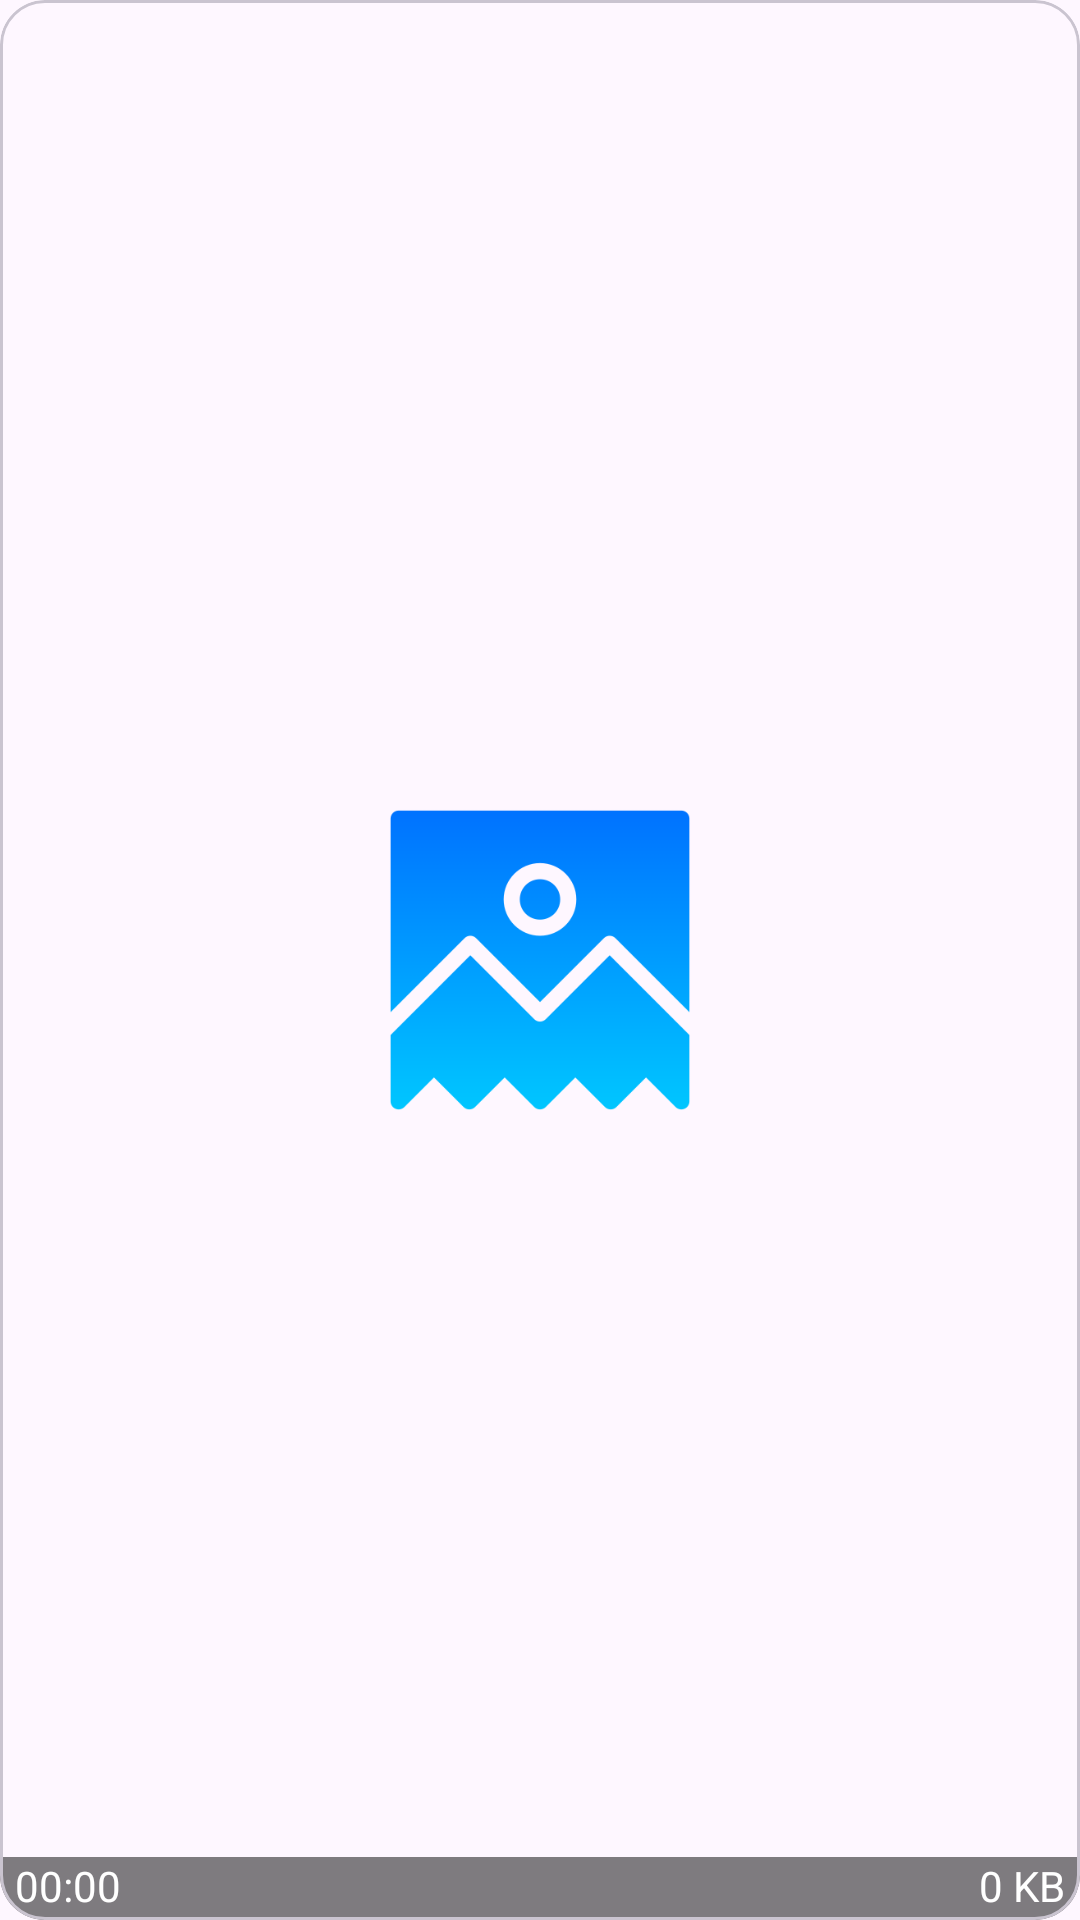

Where to tap for icons on this 1080 × 1920 app screen, as point (x, y):
thumbnail: point (540, 960)
